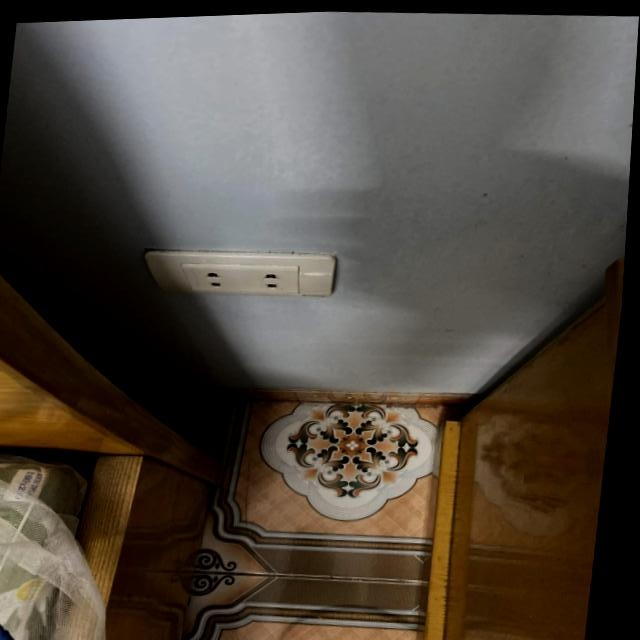outlet: (139, 242, 339, 305)
